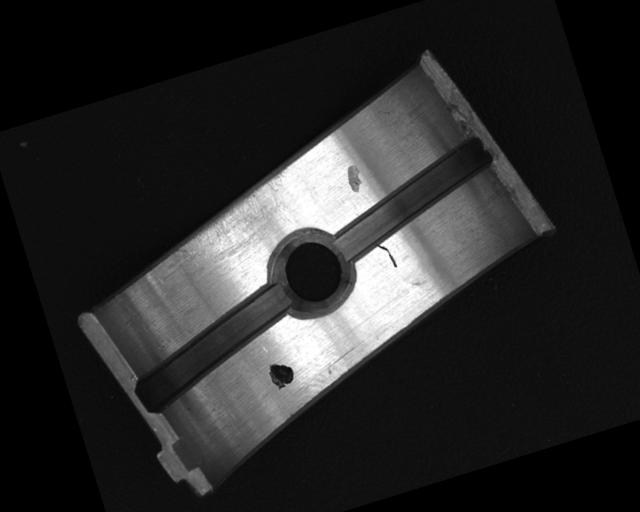blot: (265, 357, 298, 393)
bruise: (342, 161, 366, 196)
gap: (118, 281, 312, 414), (317, 133, 508, 263)
hole: (258, 217, 366, 324)
nick: (376, 240, 398, 271)
scratch: (146, 164, 309, 275)
